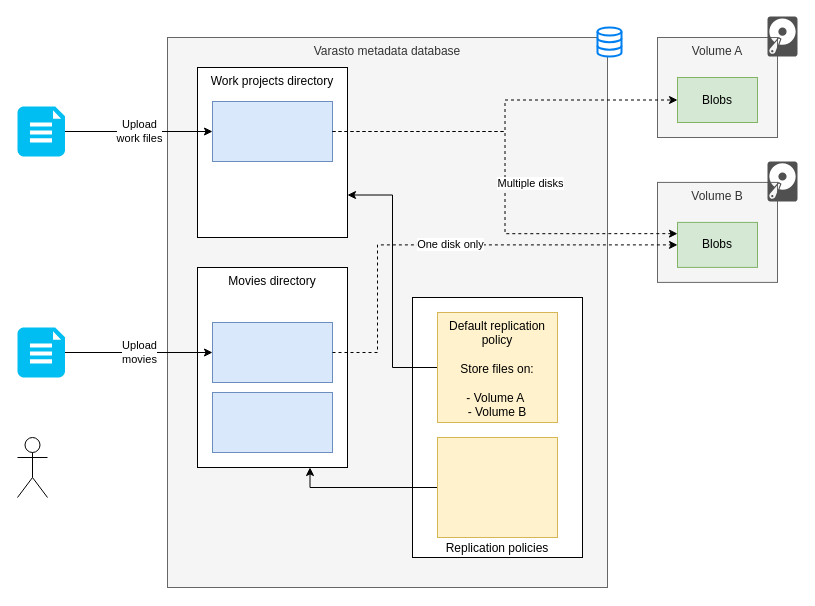
This 815x606 diagram has some shape labels left out. The centre of each missing label's shape, as x and y in pixels:
Black Dynamite: the point at 272,422
Movies replication policy Store files on: - Volume B: the point at 497,487
Project tailwind: the point at 272,131
Top Gun: the point at 272,352
User: the point at 32,467
